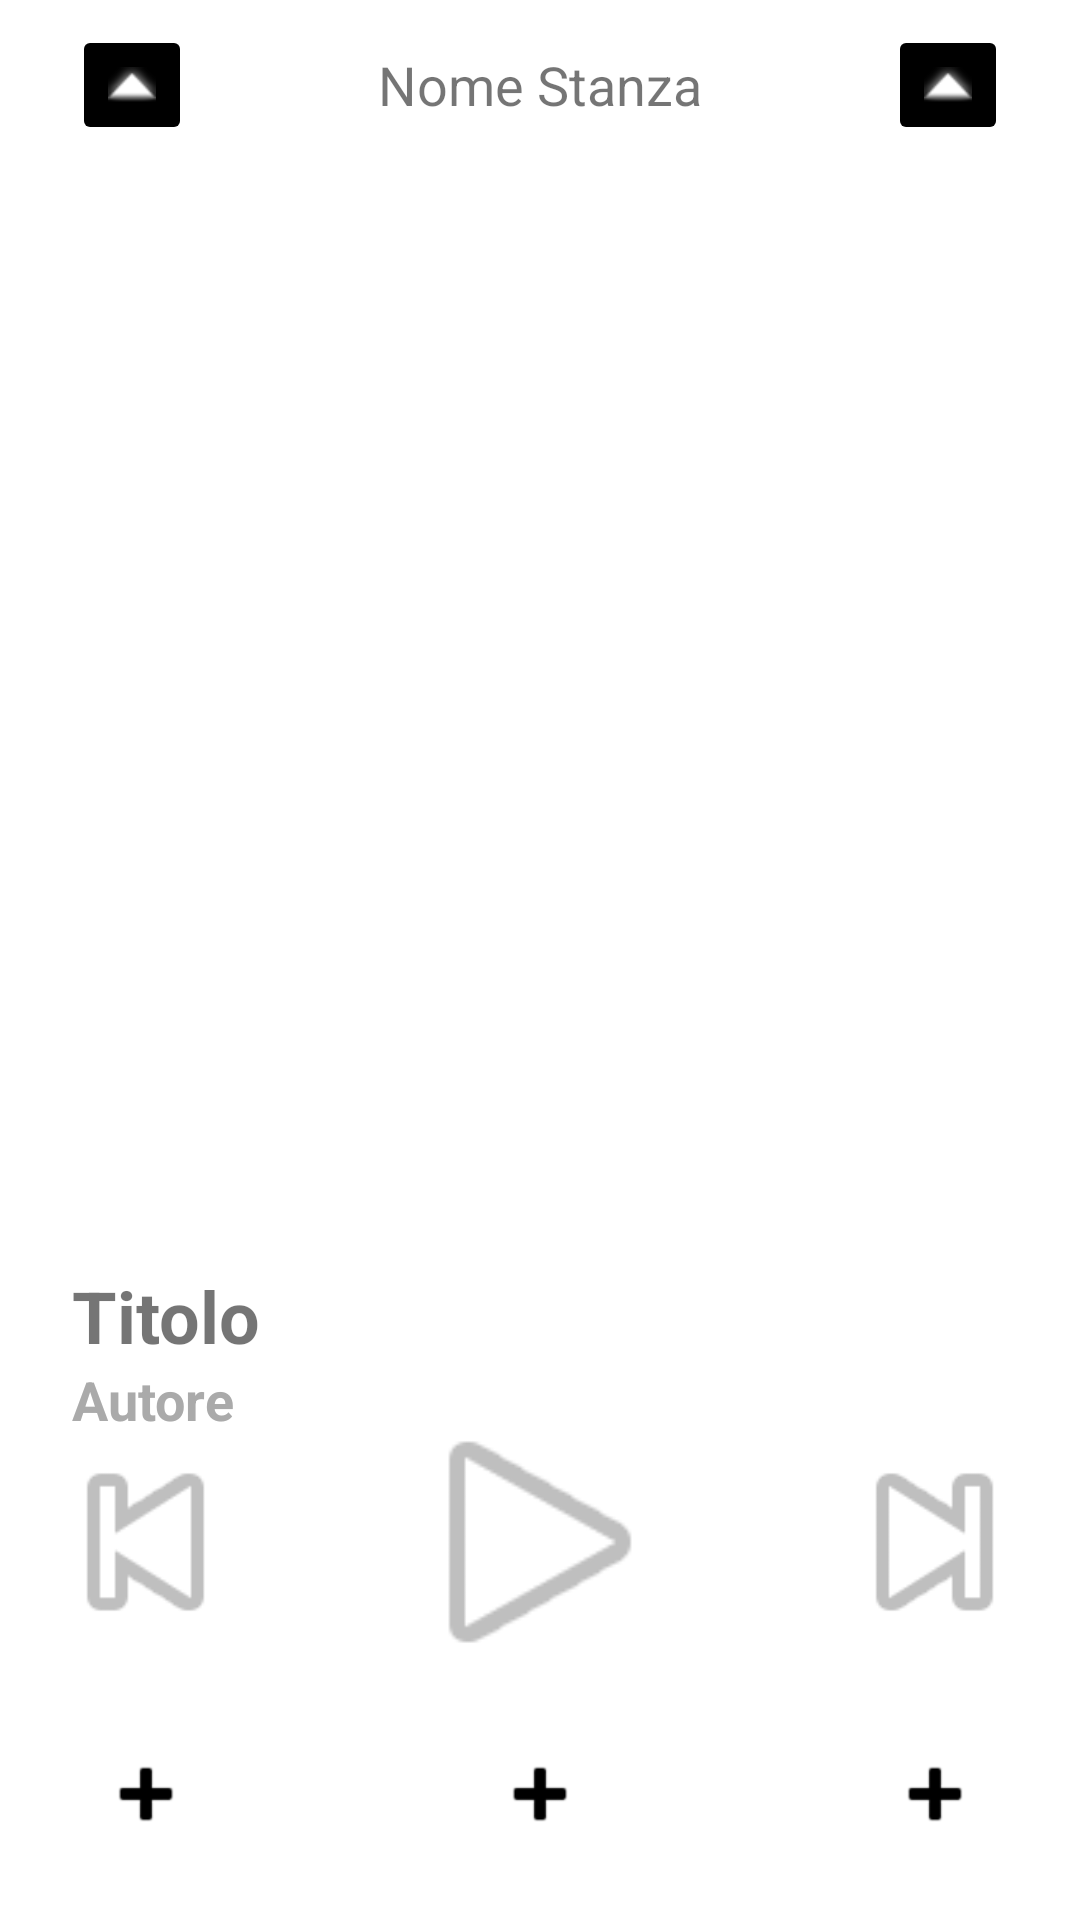

Icons on this 1080px×1920px Android screen, each with the point to tap as (x,y):
add: (146,1794), (540,1794), (935,1794)
arrow up float: (132,85), (948,85)
next: (934,1542)
play: (540,1542)
previous: (145,1542)
